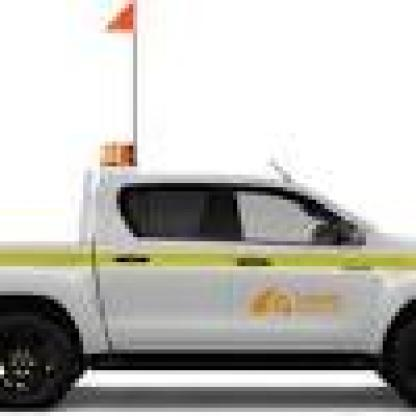light_vehicle: (0, 25, 412, 362)
